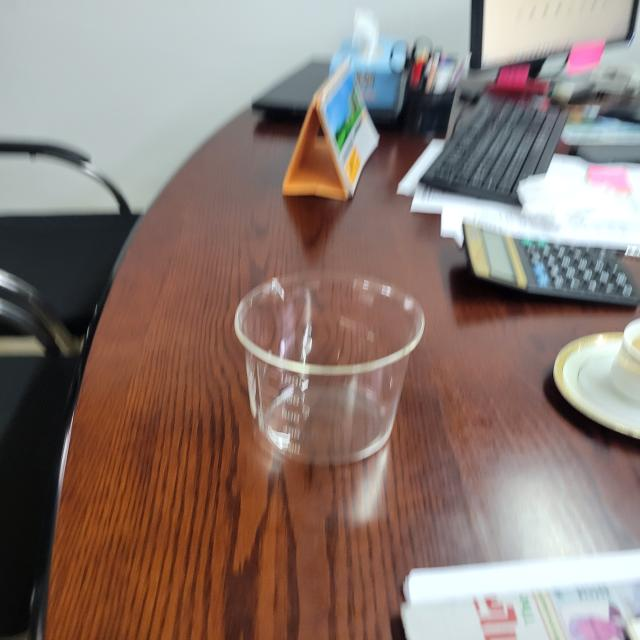Beaker: (230, 264, 433, 474)
